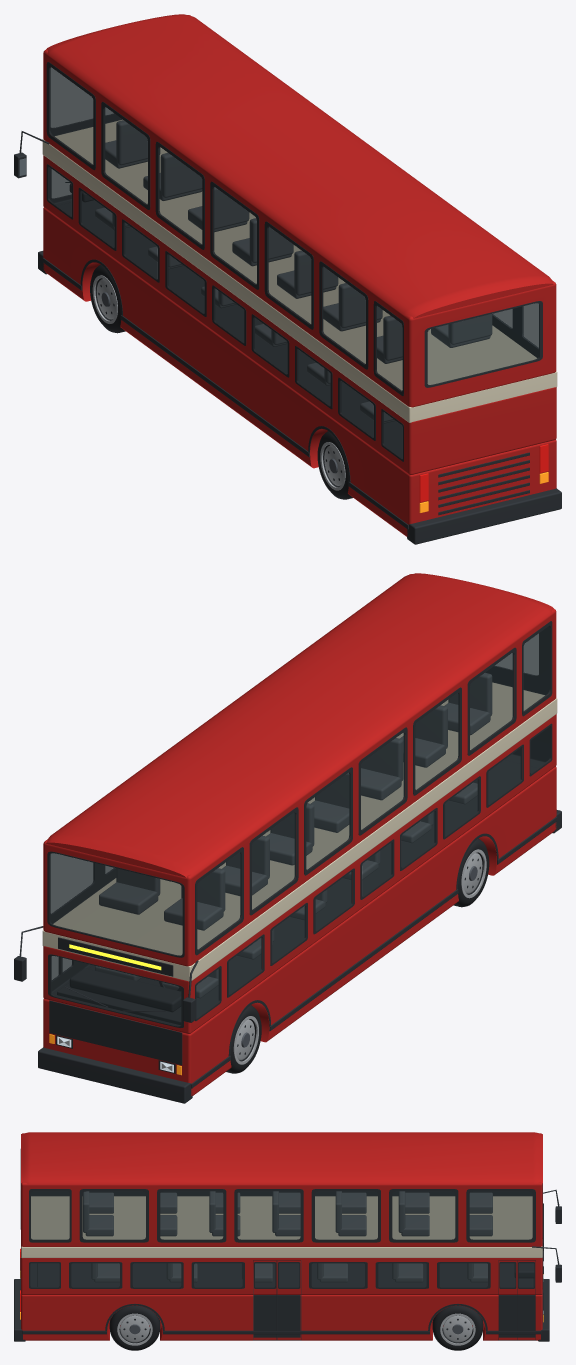
Rendered from beijing-sightseeing-bus.glb.
3 renders of one model, top to bottom at view 1: azimuth 30°, elevation 25°; view 2: azimuth 150°, elevation 25°; view 3: azimuth 270°, elevation 25°, orthographic. The views are drawn at different scales.
Parts seen in each view (by area): view 1: Body geometry, Running wheel geometry.002, Running wheel geometry; view 2: Body geometry, Running wheel geometry, Running wheel geometry.002; view 3: Body geometry, Running wheel geometry.001, Running wheel geometry.003.
Part boxes in pixels (x1,y1,x2,y2): Body geometry: [14, 14, 561, 544]; Running wheel geometry.002: [317, 431, 352, 499]; Running wheel geometry: [90, 264, 125, 333]; Body geometry: [14, 573, 561, 1103]; Running wheel geometry: [226, 1005, 261, 1073]; Running wheel geometry.002: [453, 838, 489, 907]; Body geometry: [14, 1132, 561, 1341]; Running wheel geometry.001: [432, 1305, 483, 1350]; Running wheel geometry.003: [109, 1305, 160, 1350].
Size of the model in its own units: 2.08 by 2.79 by 7.81.
